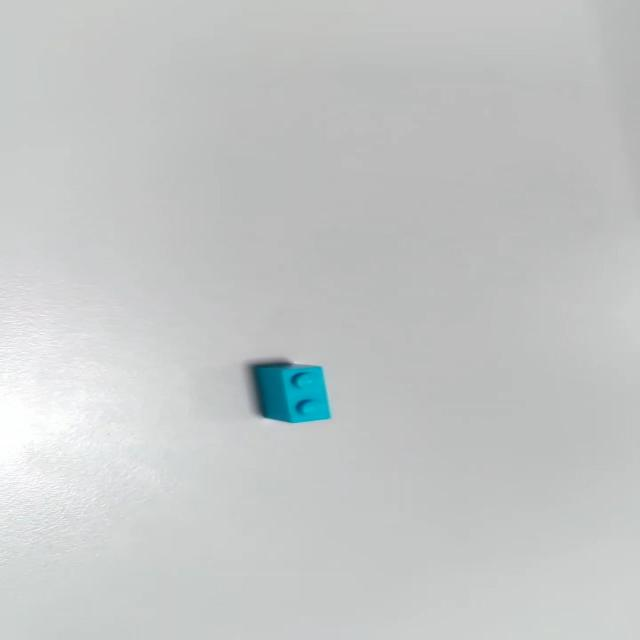C2x1x1: (250, 361, 332, 423)
